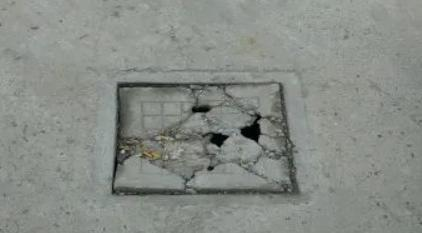wellcover: (93, 71, 319, 205)
